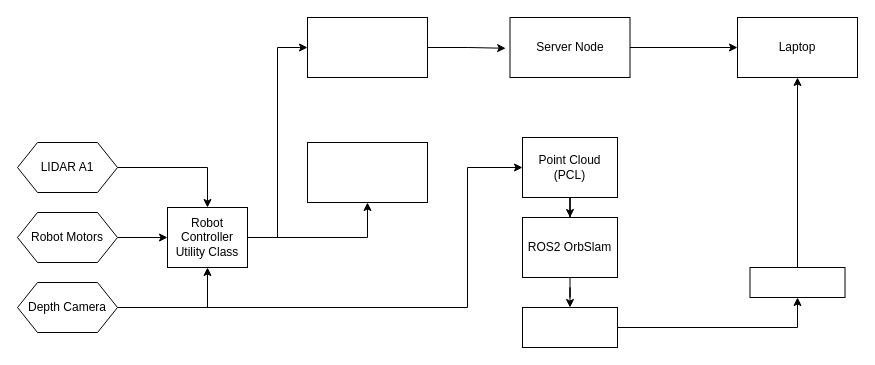
The diagram is 875 pixels wide and 365 high, and some of its shapes have lost their labels. The centre of each missing label's shape, as x and y in pixels:
Lidar Visual Node: the point at 367,47
RVIZ: the point at 570,327
VNC: the point at 797,282
Wall Follow Node: the point at 367,172
